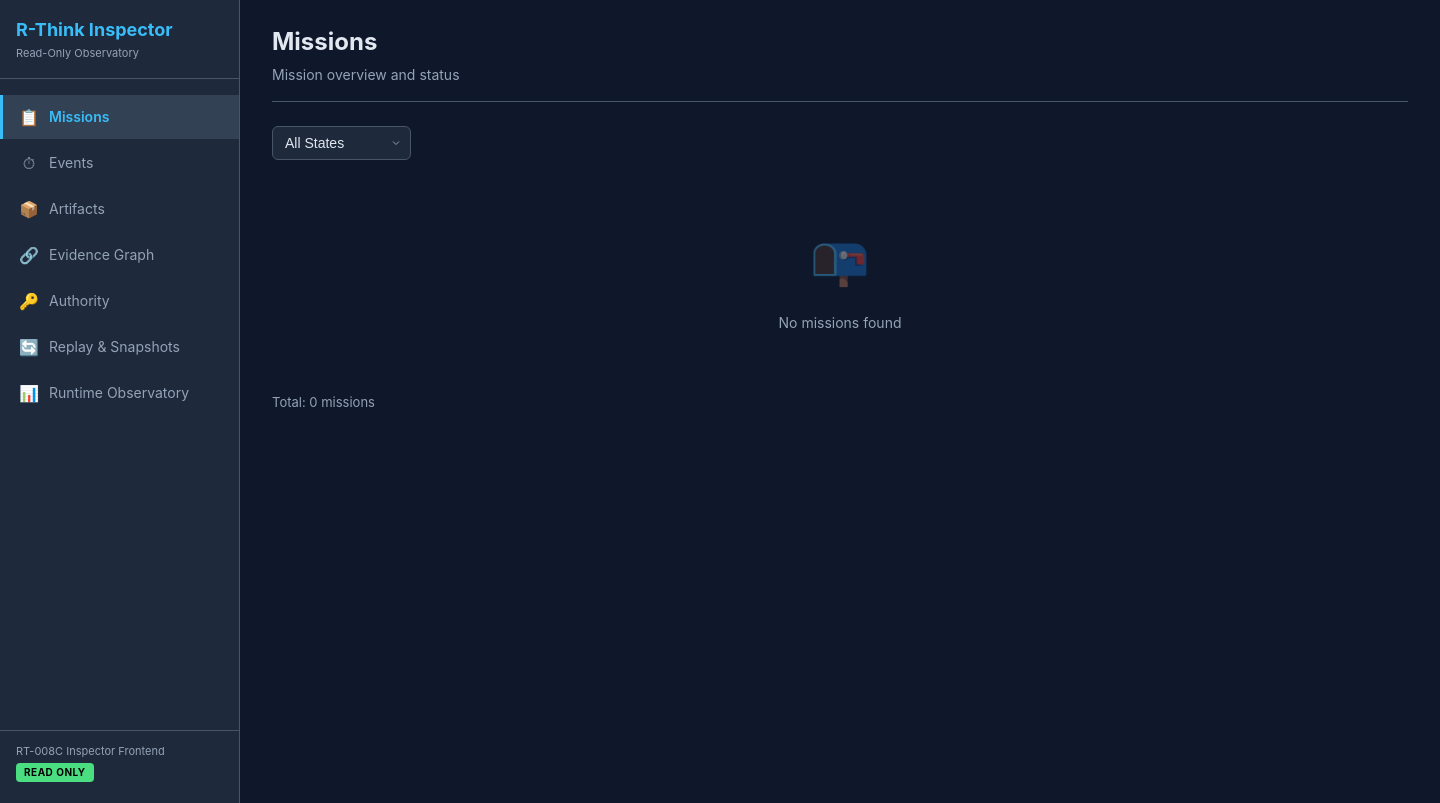
Test case: Navigation › navigates to Health view on click
expect the heading "Missions" is shown: met, box [272,27,377,56]
Click the link "📊 Runtime Observatory".
click(104, 392)  # box [19,382,189,402]
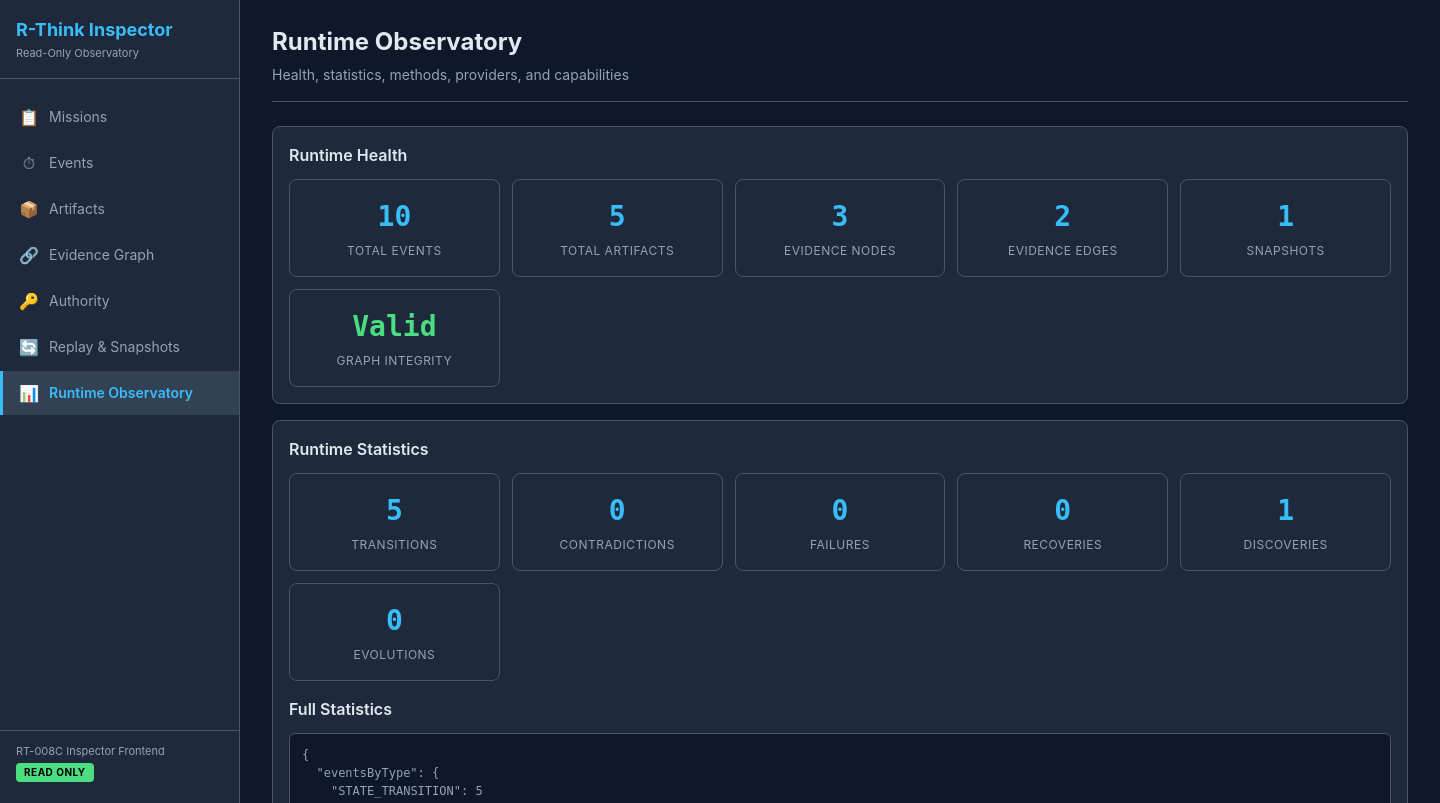
expect the text "Runtime Health" is shown: met, box [289,145,407,165]
